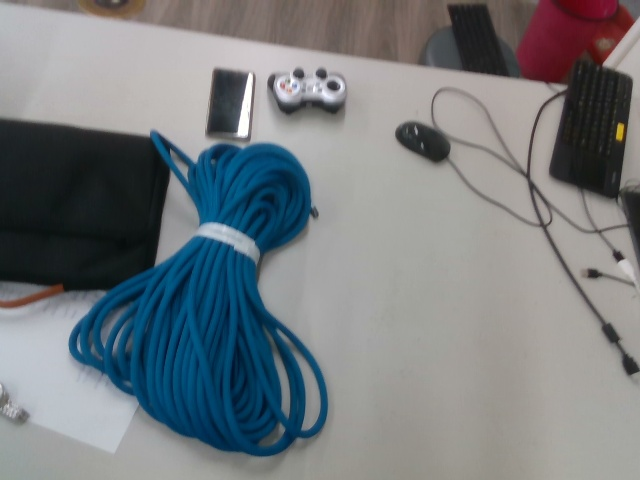rope: (66, 126, 332, 458)
